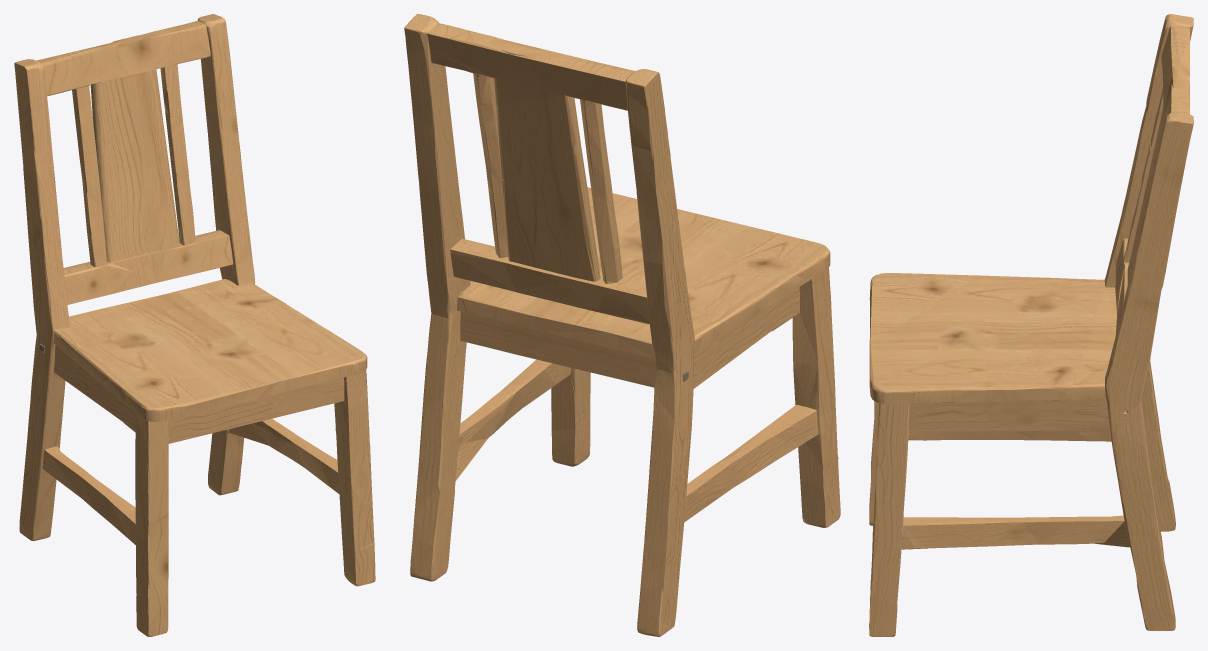
The model's file is chair.glb.
3 views of the same model, side by side, from view 1: azimuth 30°, elevation 25°; view 2: azimuth 150°, elevation 25°; view 3: azimuth 270°, elevation 25° (orthographic). The views are drawn at different scales.
Size of the model in its own units: 0.9697 by 1.9 by 1.1.
1 material, 1 textured.
